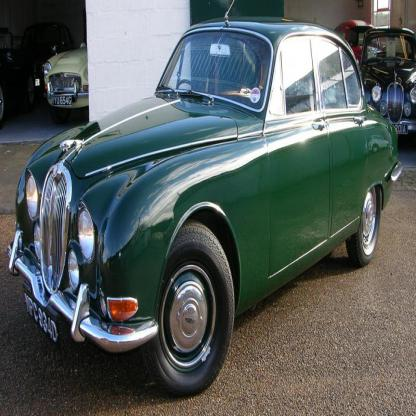Car: (6, 0, 404, 398), (358, 25, 415, 150), (18, 22, 76, 107), (44, 40, 88, 124), (0, 27, 35, 131), (334, 20, 387, 66)
